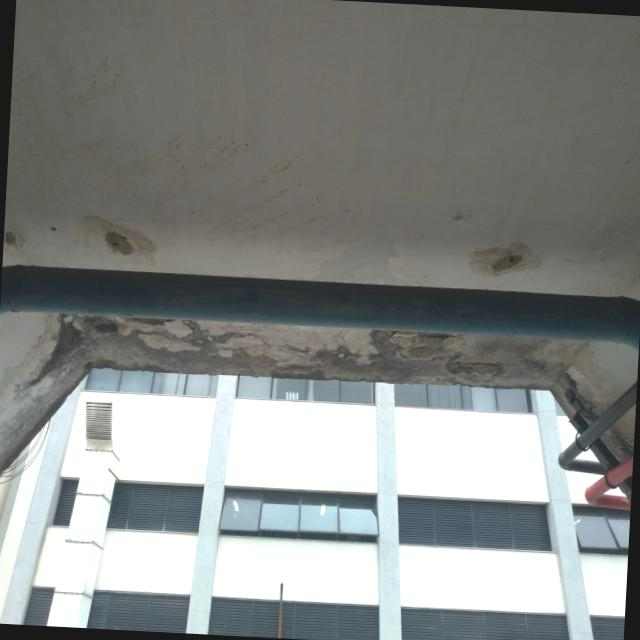gas: (0, 260, 640, 347)
